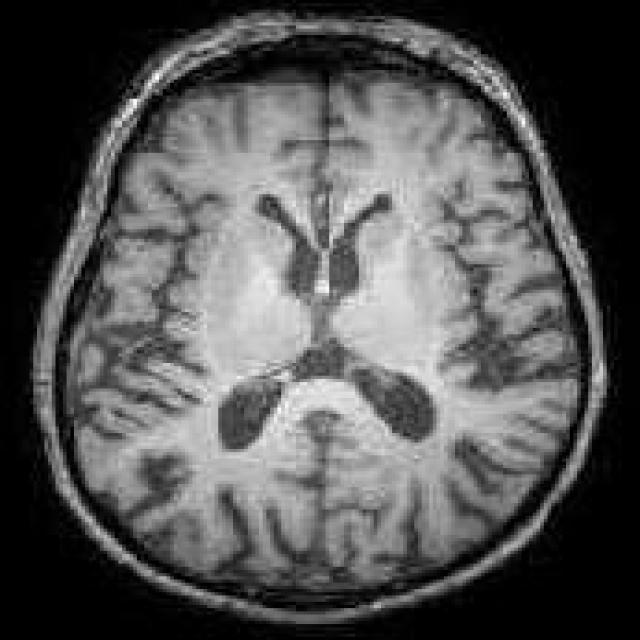notumor: (30, 13, 614, 627)
